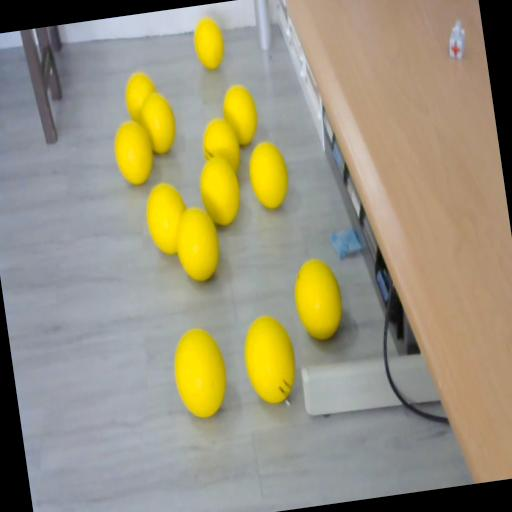FUEL: (167, 324, 232, 420), (238, 311, 301, 407), (288, 254, 346, 342), (170, 202, 225, 285), (196, 154, 246, 228), (245, 138, 292, 211), (110, 118, 156, 187), (136, 88, 180, 157), (220, 82, 262, 148), (191, 13, 228, 72)
